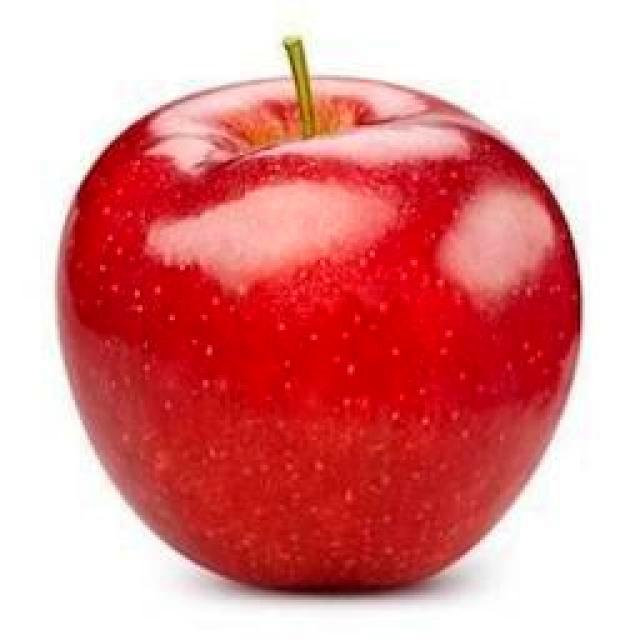Apple: (59, 78, 580, 589)
